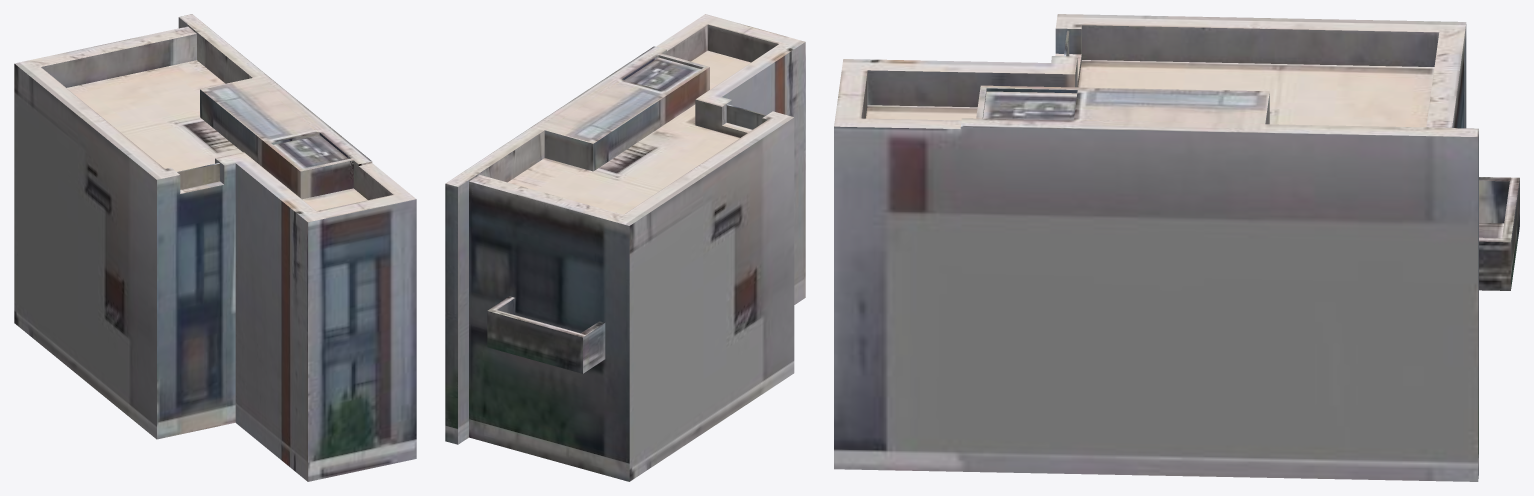
3 views of the same model, side by side, from view 1: azimuth 30°, elevation 25°; view 2: azimuth 150°, elevation 25°; view 3: azimuth 270°, elevation 25° (orthographic). The views are drawn at different scales.
Visible parts, largest first — view 1: B285344034101062A0; view 2: B285344034101062A0; view 3: B285344034101062A0.
Boxes of the visible parts, bbox=[...] form: B285344034101062A0: bbox=[14, 14, 416, 481]; B285344034101062A0: bbox=[445, 14, 805, 481]; B285344034101062A0: bbox=[834, 14, 1519, 481].
Bounding box in the file's own units: 7.17 × 9.19 × 16.57.
1 material, 1 textured.
